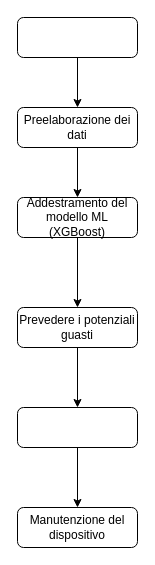
Image size: 155x565. Some labels were removed from this diagram. Each missing label, with the centre of its shape:
"Invio allarme al proprietario del dispositivo" belongs at (x=77, y=427).
"TX-Control raccoglie dati dai trasmettitori" belongs at (x=77, y=37).
